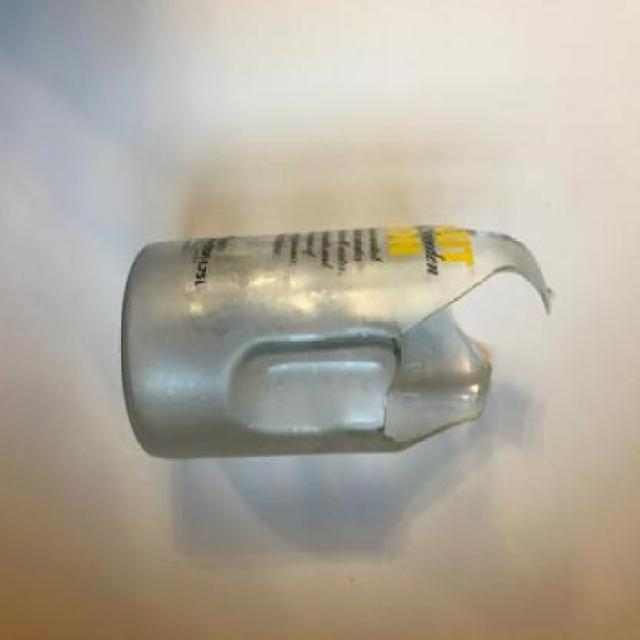glass: (120, 226, 557, 462)
